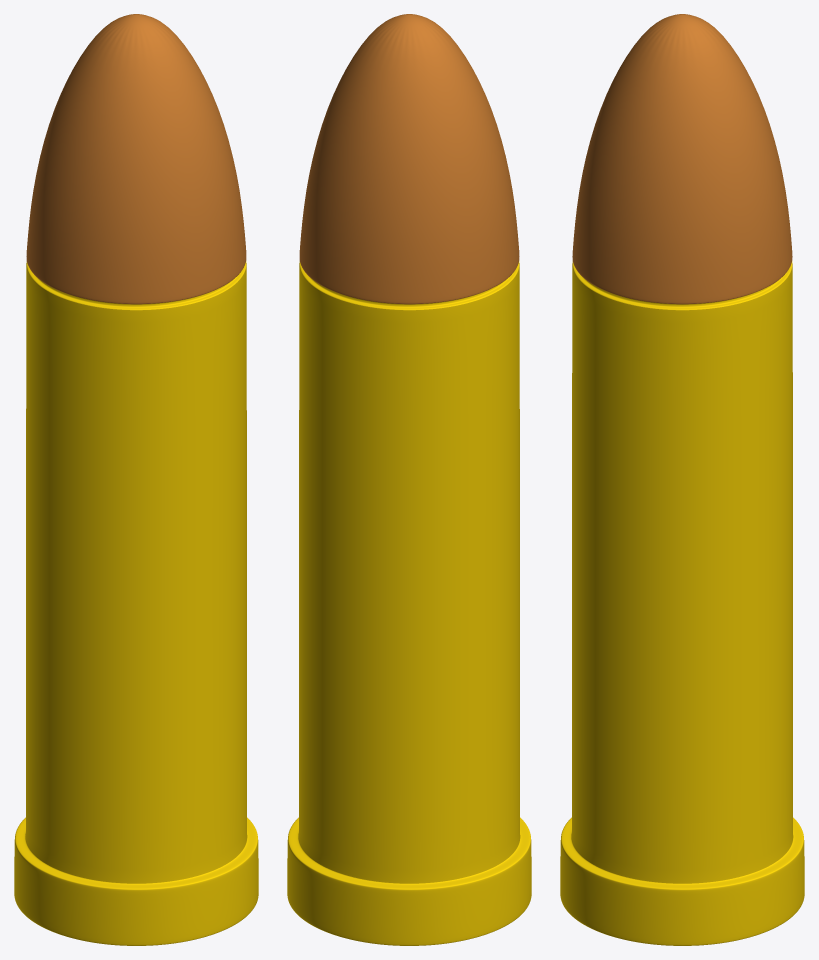
The model's file is Bullet_01.fbx.
The picture shows the model from 3 angles, left to right: view 1: azimuth 30°, elevation 25°; view 2: azimuth 150°, elevation 25°; view 3: azimuth 270°, elevation 25°; orthographic projection.
Visible parts, largest first — view 1: Cylinder.001; view 2: Cylinder.001; view 3: Cylinder.001.
Part boxes in pixels (<box>): Cylinder.001: <box>14,14,258,945</box>; Cylinder.001: <box>287,14,531,945</box>; Cylinder.001: <box>560,14,804,945</box>.
Bounding box in the file's own units: 176 × 699 × 176.
